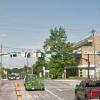Traffic light: (10, 46, 39, 64)
